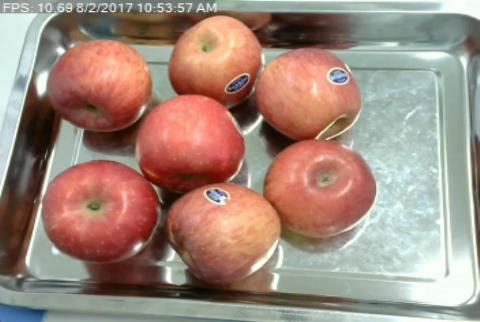apple: (42, 159, 160, 263), (167, 183, 282, 283), (264, 137, 377, 238), (46, 39, 151, 132), (256, 47, 362, 139), (137, 96, 246, 185), (168, 15, 263, 104)
